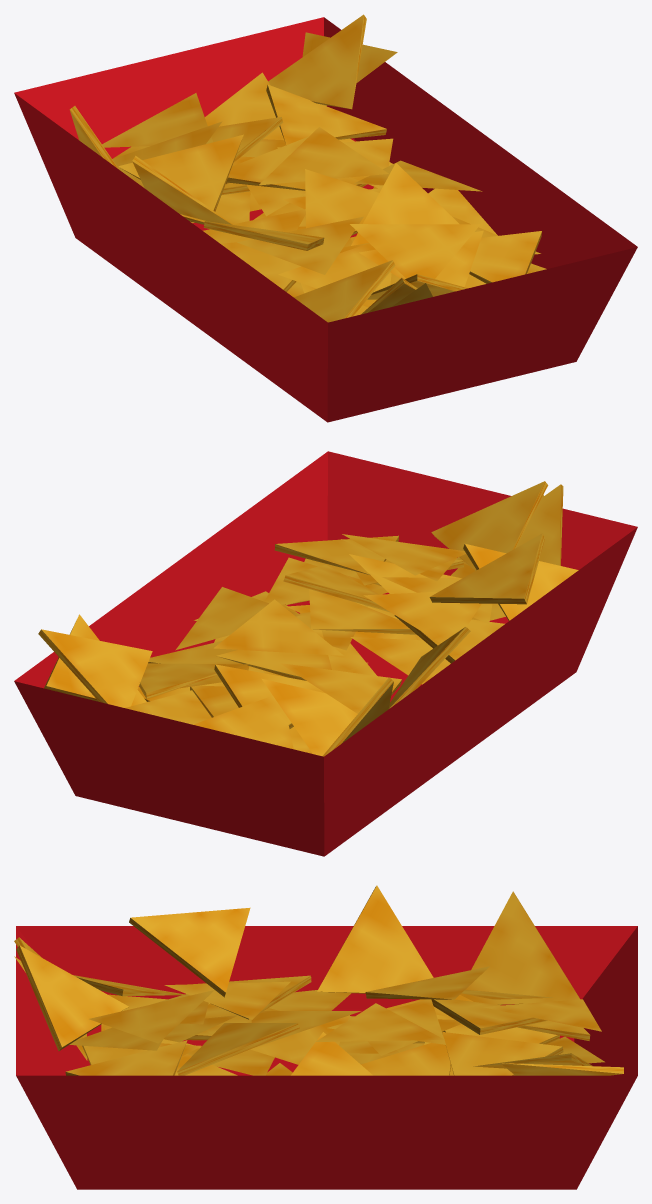
File: nachos.fbx
The picture shows the model from 3 angles, top to bottom: view 1: azimuth 30°, elevation 25°; view 2: azimuth 150°, elevation 25°; view 3: azimuth 270°, elevation 25°; orthographic projection.
Visible parts, largest first — view 1: Cube; view 2: Cube; view 3: Cube.
Part boxes in pixels (x1,y1,x2,y2): Cube: (14, 14, 637, 422); Cube: (14, 451, 637, 856); Cube: (14, 885, 637, 1189).
Bounding box in the file's own units: 0.1823 × 0.0868 × 0.2981.
Materials: 1 (1 with a texture image).
